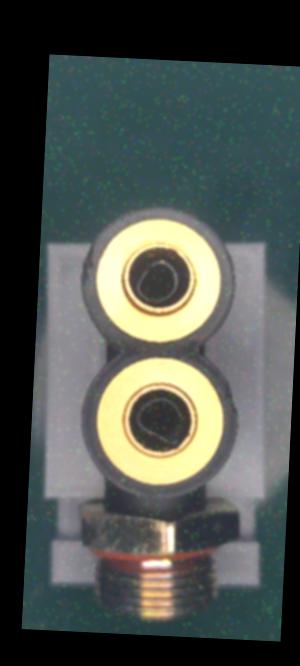bump: (68, 236, 103, 298), (222, 381, 239, 418)
off-centered: (130, 391, 189, 449), (124, 253, 184, 310)
